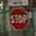stop: (7, 6, 30, 30)
